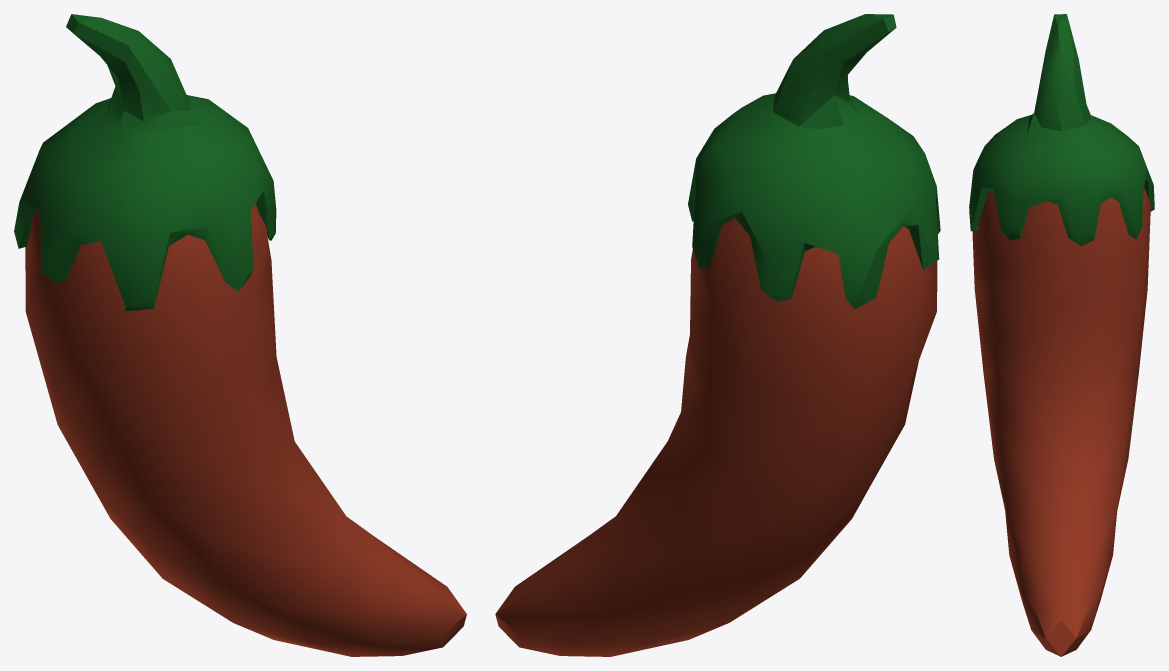
Rendered from red chili.fbx.
3 renders of one model, left to right at view 1: azimuth 30°, elevation 25°; view 2: azimuth 150°, elevation 25°; view 3: azimuth 270°, elevation 25°, orthographic. The views are drawn at different scales.
Visible parts, largest first — view 1: Cube.004, Cube.002; view 2: Cube.004, Cube.002; view 3: Cube.004, Cube.002.
Boxes of the visible parts, x1,y1,x2,y2 form: Cube.004: [25, 203, 466, 656]; Cube.002: [14, 14, 276, 311]; Cube.004: [495, 218, 937, 656]; Cube.002: [688, 14, 940, 308]; Cube.004: [972, 188, 1150, 656]; Cube.002: [969, 14, 1154, 246].
Size of the model in its own units: 101 by 161 by 52.66.
